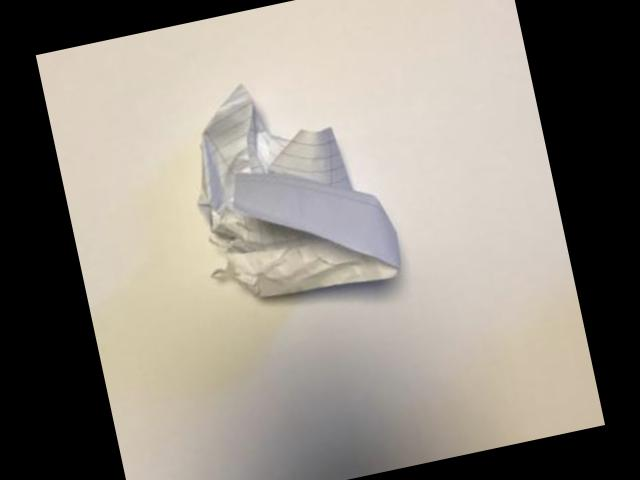cardboard paper: (201, 83, 401, 294)
